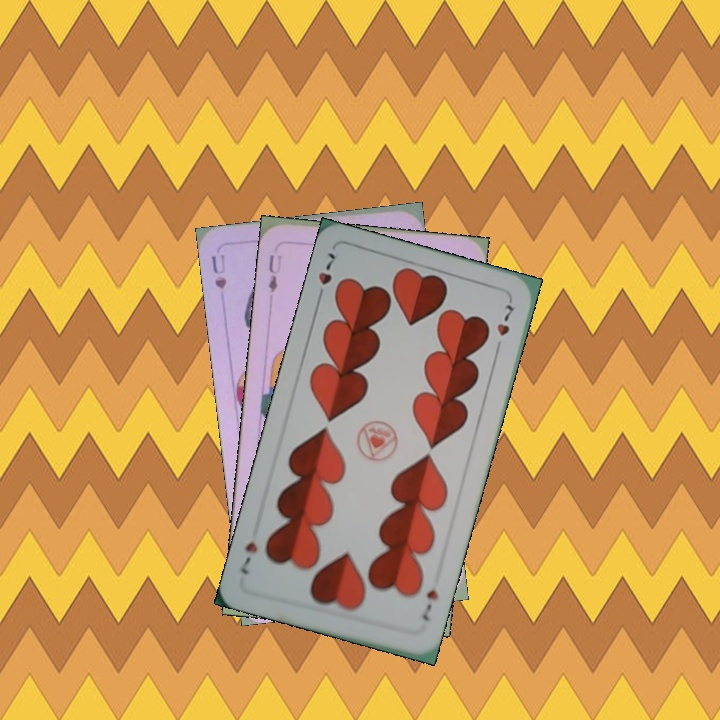EU: (263, 251, 285, 295)
H7: (312, 248, 338, 305), (417, 585, 441, 624)
SU: (207, 250, 229, 292)
